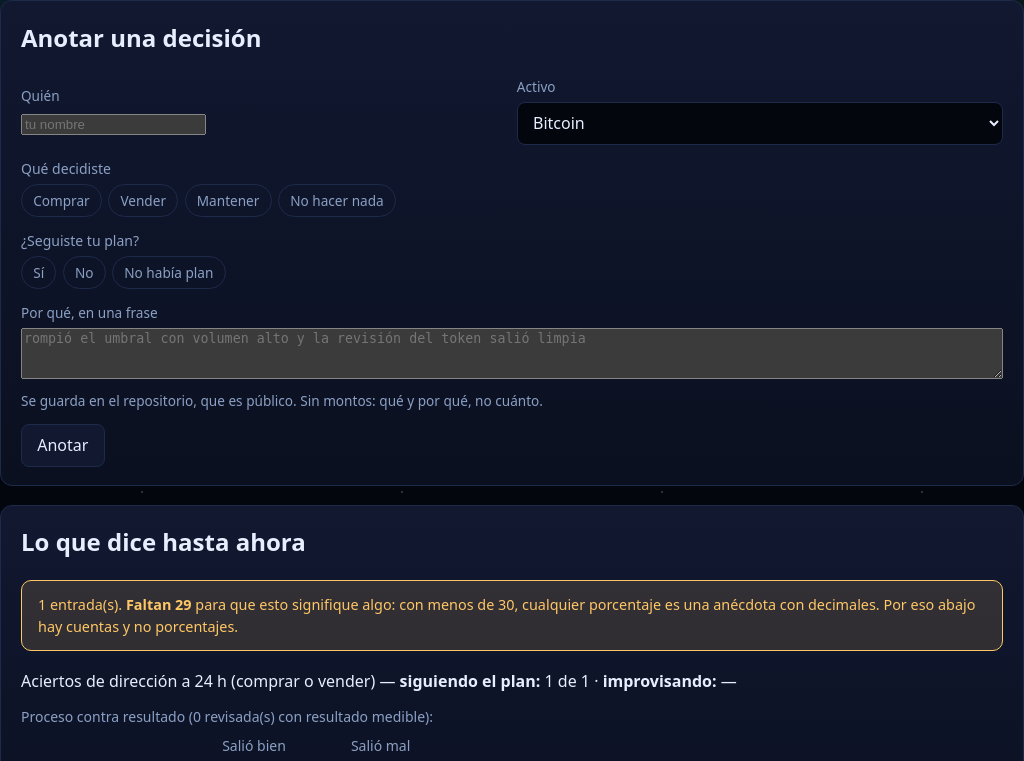
Test: anotar › avisa que es público, y más fuerte si parece un monto
Check: the text "repositorio, que es público" is shown, box x1=21 y1=391 x2=543 y2=410
Step 1. Replace the text in the text box labelled "Por qué, en una frase" with "puse $50 porque rompió" → (512, 353), box x1=21 y1=328 x2=1003 y2=379
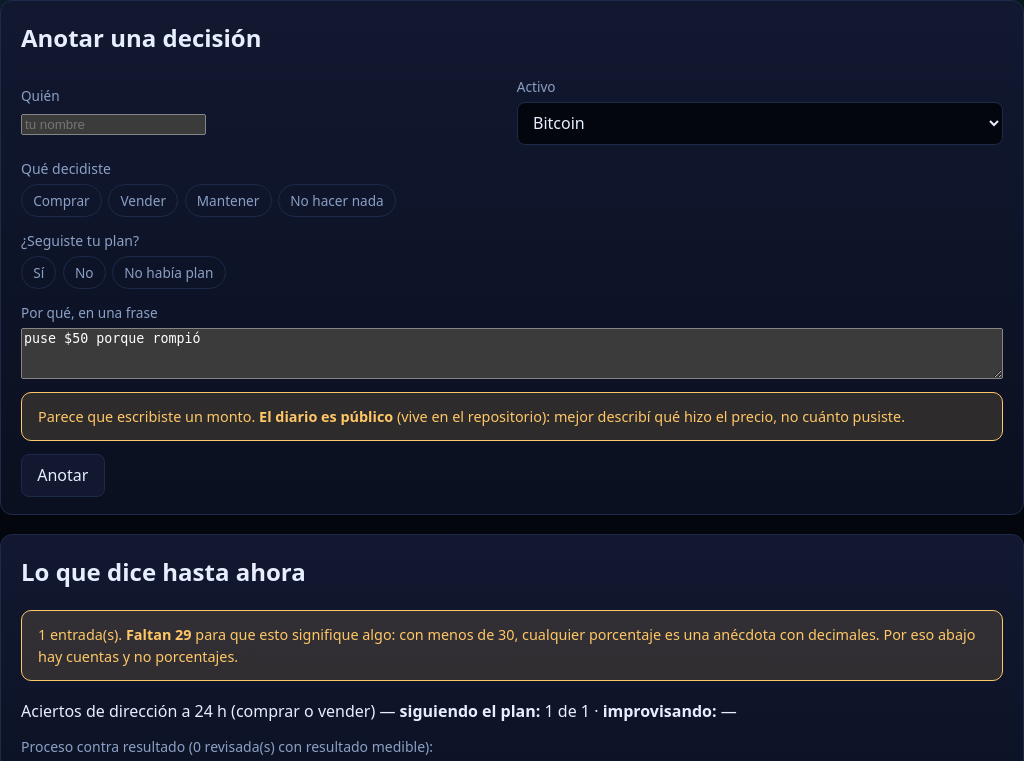
Check: the text "Parece que escribiste un monto" is shown, box x1=38 y1=407 x2=259 y2=426
